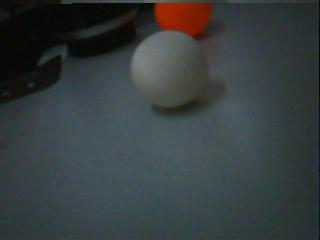oball: (153, 3, 211, 30)
